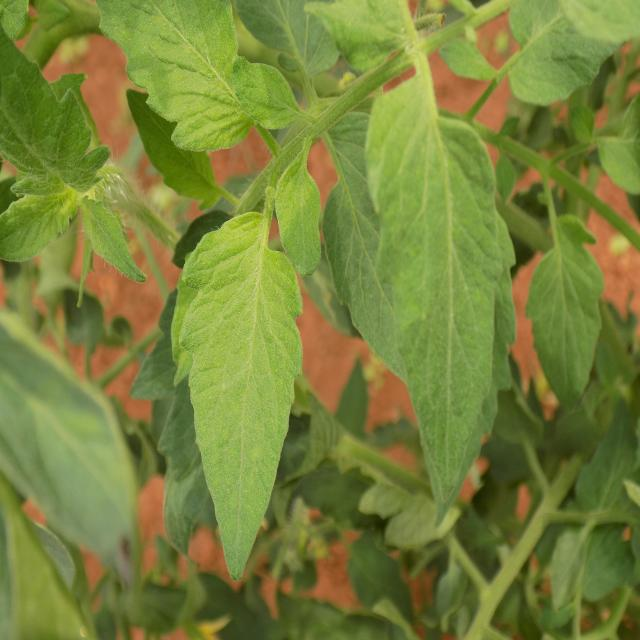tomato_healthy: (363, 68, 513, 514), (173, 209, 298, 583), (530, 208, 609, 416), (276, 148, 326, 279)
